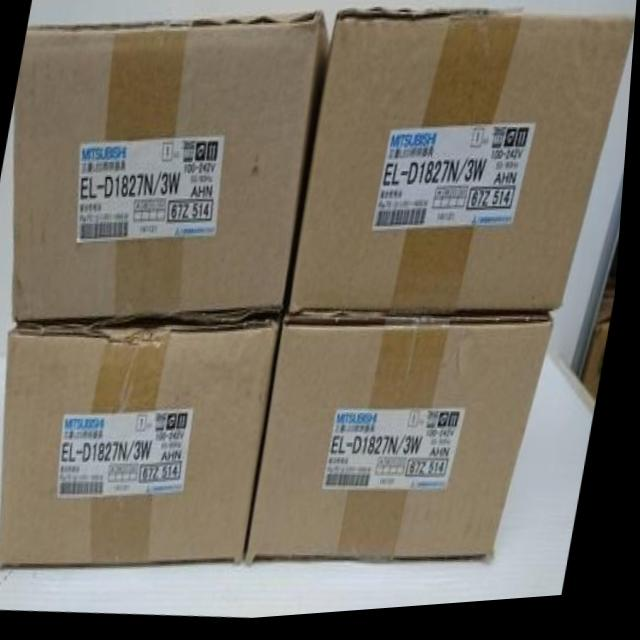box: (292, 13, 636, 319), (15, 17, 330, 325), (253, 319, 558, 568), (6, 319, 286, 570)
